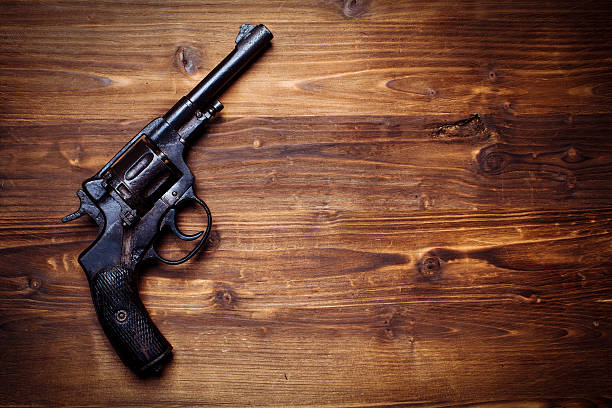gun: (61, 20, 275, 378)
